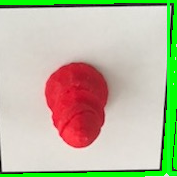Red Bishop: (41, 59, 111, 151)
